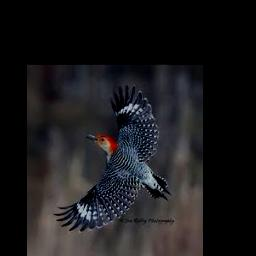Woodpecker: (54, 84, 171, 233)
